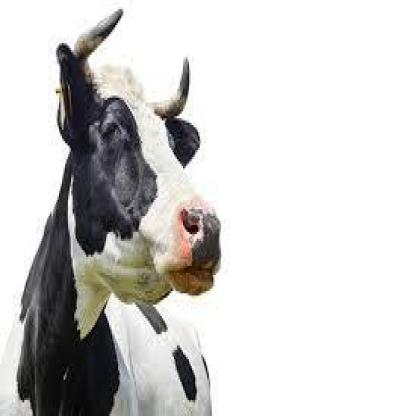cow: (0, 45, 222, 415)
